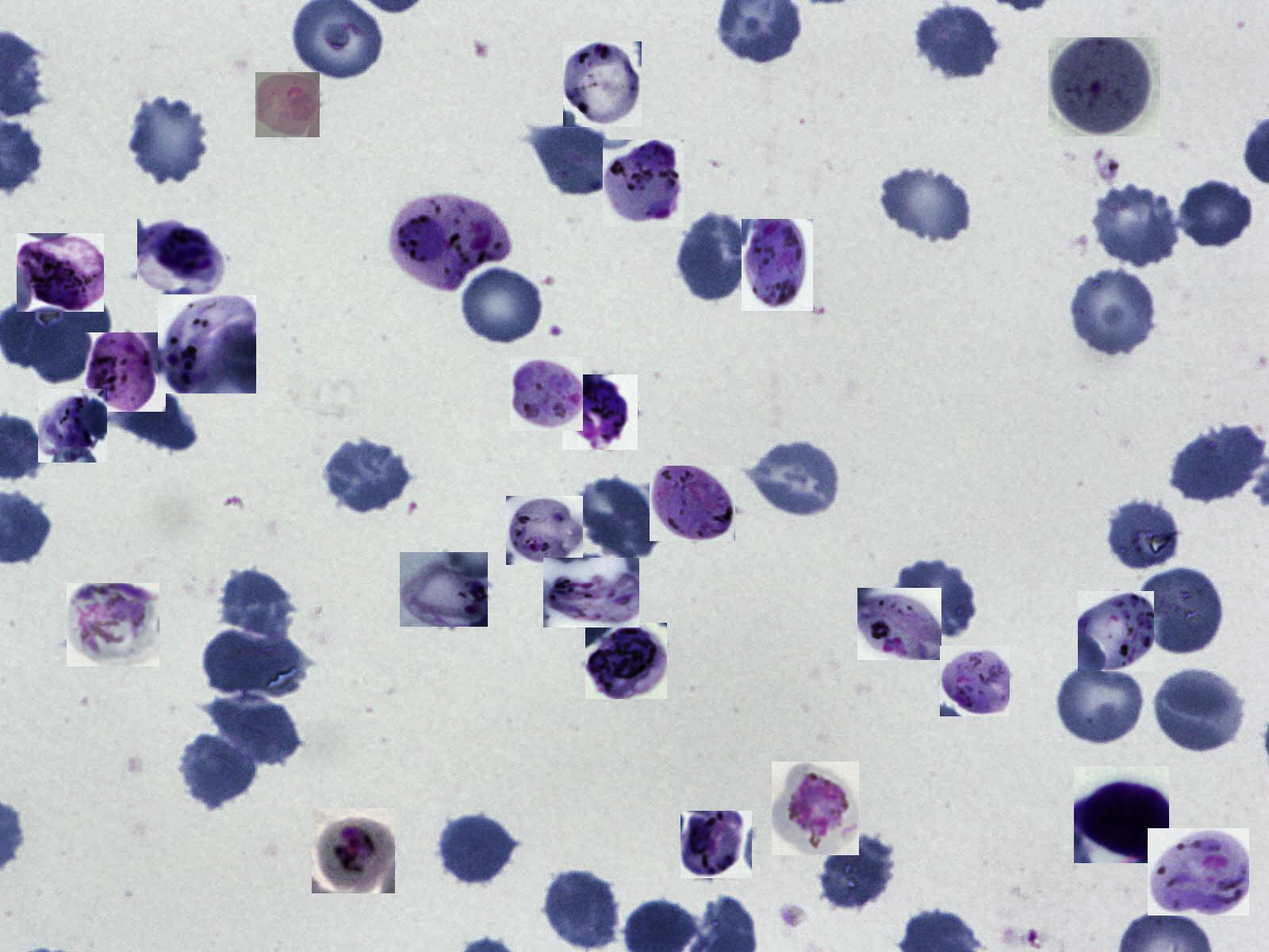Infected: (389, 194, 511, 294), (1049, 37, 1160, 136), (158, 295, 256, 393), (1074, 766, 1169, 863), (1148, 828, 1249, 916), (772, 762, 859, 855), (67, 583, 159, 666), (312, 808, 395, 893), (603, 140, 684, 227), (17, 233, 104, 312), (563, 41, 642, 127), (543, 558, 639, 628), (138, 219, 227, 294), (400, 552, 488, 627), (742, 219, 813, 311), (85, 332, 166, 412), (650, 466, 735, 541), (585, 624, 667, 700), (1078, 591, 1154, 671), (857, 588, 941, 660), (562, 374, 638, 450), (510, 357, 583, 431), (506, 497, 583, 566), (38, 389, 107, 463), (940, 646, 1010, 716), (681, 811, 753, 878), (255, 72, 320, 137)
Uninfected: (1148, 666, 1248, 758), (125, 90, 213, 189), (26, 288, 114, 386), (1067, 266, 1160, 357), (1138, 563, 1227, 658), (746, 436, 843, 520), (1054, 660, 1148, 746), (573, 474, 664, 562), (1091, 180, 1183, 267), (876, 161, 972, 244), (1171, 422, 1264, 504), (201, 624, 301, 700), (459, 265, 548, 347), (529, 123, 630, 195), (894, 556, 979, 641), (912, 4, 1003, 83), (675, 212, 749, 307), (210, 693, 299, 770), (324, 440, 410, 516), (817, 830, 896, 912), (217, 567, 297, 646), (437, 811, 517, 889), (1106, 494, 1183, 575), (542, 873, 623, 950), (109, 389, 196, 455), (1180, 177, 1256, 251), (180, 734, 257, 807)
